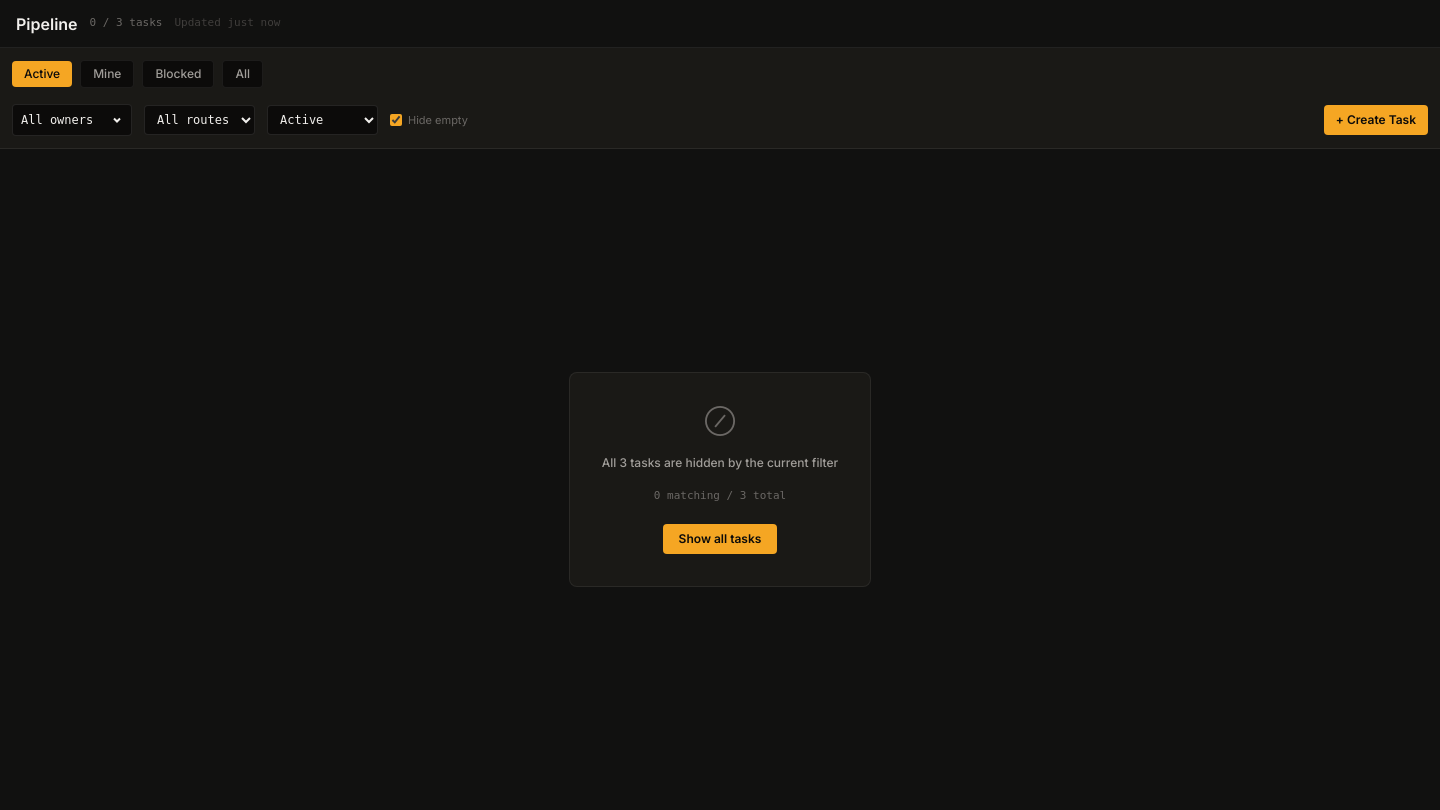
it: Pipeline — filtered-empty state (#148) › recovery works from persisted Active filter state
What coordinates should you click on to do the following:
click the button "Show all tasks"
I would click on:
 (720, 539)
Its box is [663, 524, 777, 554].
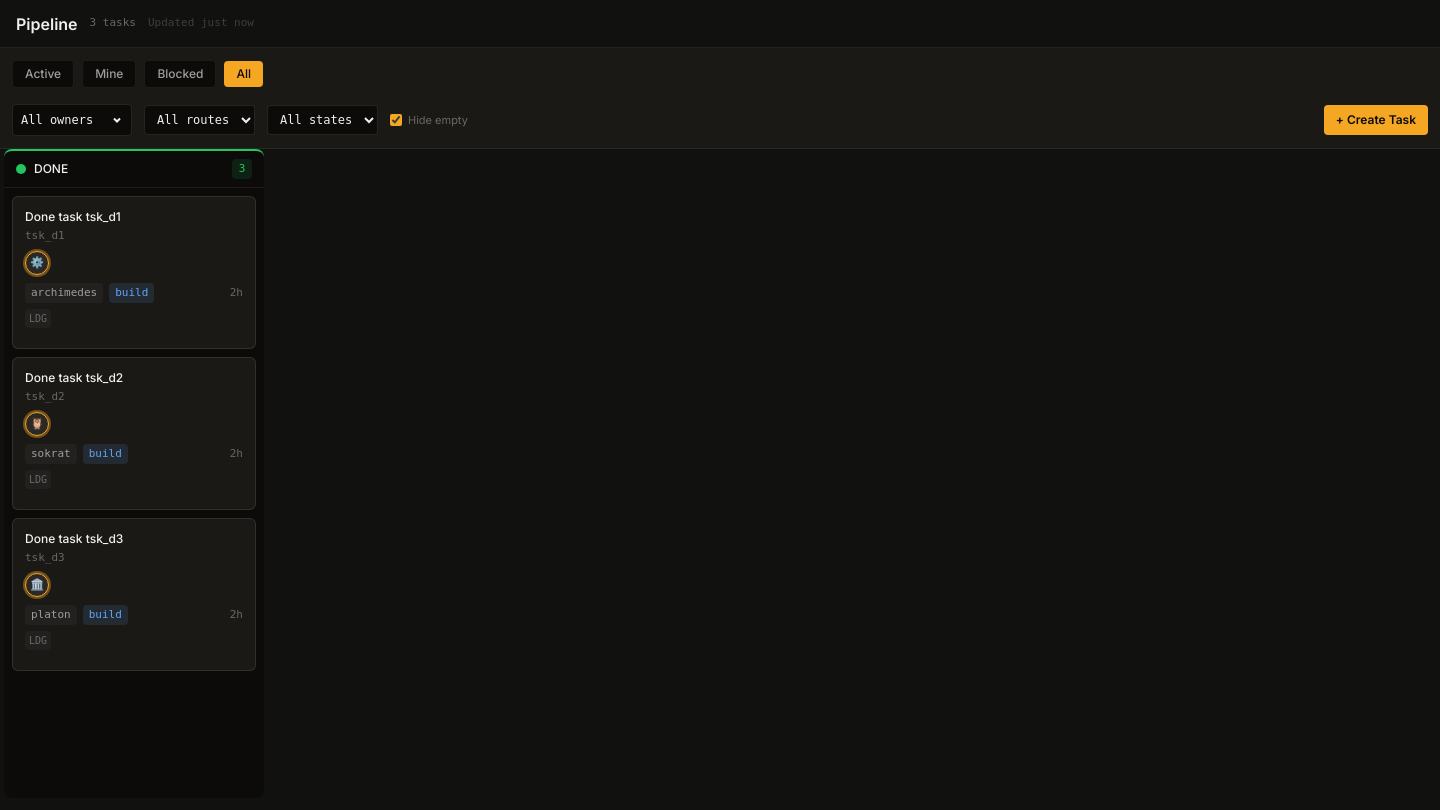
expect the text "3 tasks" is shown: met, box [90, 15, 136, 32]
expect the element with test id "filtered-empty-state" is gone: met
